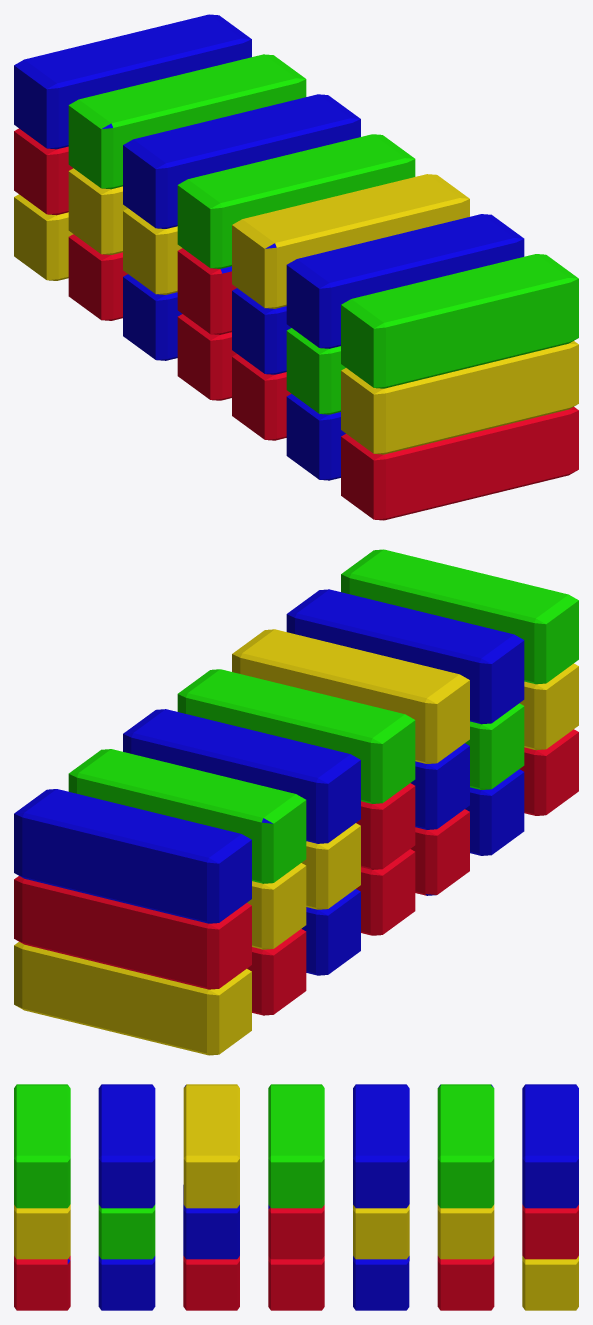
Rendered from Crates.fbx.
The picture shows the model from 3 angles, top to bottom: view 1: azimuth 30°, elevation 25°; view 2: azimuth 150°, elevation 25°; view 3: azimuth 270°, elevation 25°; orthographic projection. The views are drawn at different scales.
Visible parts, largest first — view 1: Cube; view 2: Cube; view 3: Cube.
Part boxes in pixels (x1,y1,x2,y2): Cube: (14,14,578,520); Cube: (14,549,578,1055); Cube: (14,1084,578,1310).
Bounding box in the file's own units: 1429 × 1315 × 4385.
